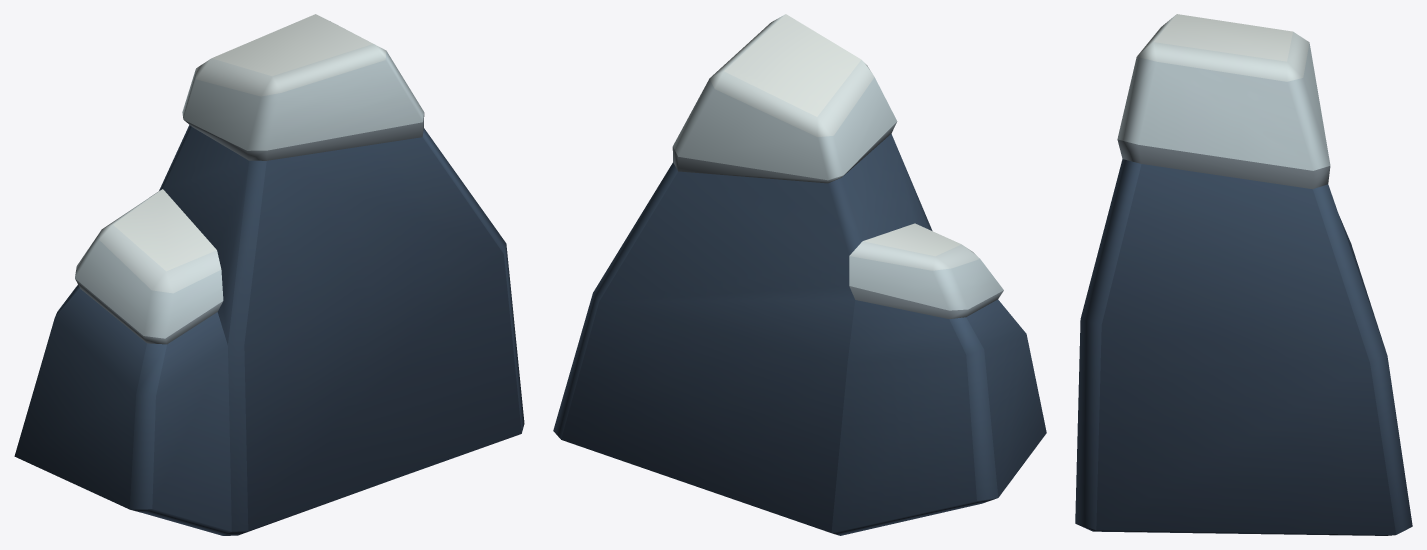
The model's file is rock_snow_024.fbx.
3 renders of one model, left to right at view 1: azimuth 30°, elevation 25°; view 2: azimuth 150°, elevation 25°; view 3: azimuth 270°, elevation 25°, orthographic. The views are drawn at different scales.
Visible parts, largest first — view 1: rock_snow_024; view 2: rock_snow_024; view 3: rock_snow_024.
Part boxes in pixels (x1=…): rock_snow_024: x1=14, y1=14, x2=524, y2=535; rock_snow_024: x1=553, y1=14, x2=1046, y2=535; rock_snow_024: x1=1075, y1=14, x2=1412, y2=535.
Bounding box in the file's own units: 256 × 254 × 163.
1 material, 1 textured.
